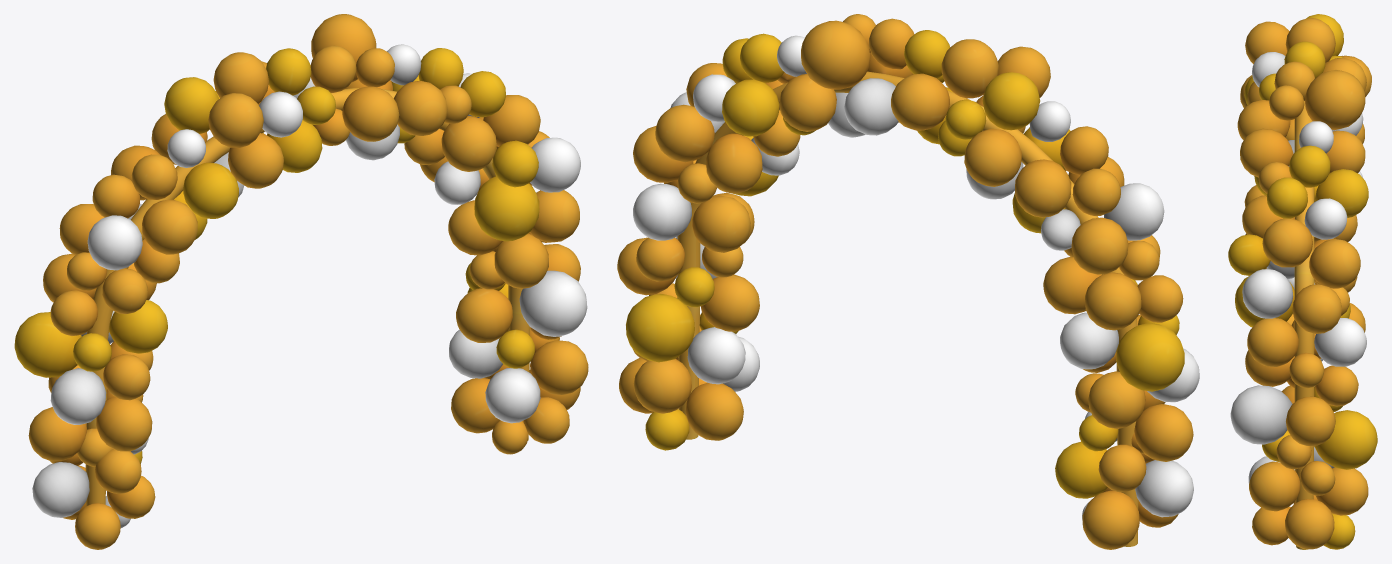
Rendered from PartyBalloons03_GR2_2.FBX.
The picture shows the model from 3 angles, left to right: view 1: azimuth 30°, elevation 25°; view 2: azimuth 150°, elevation 25°; view 3: azimuth 270°, elevation 25°; orthographic projection. The views are drawn at different scales.
Parts seen in each view (by area): view 1: PartyBalloons03_GR2_2; view 2: PartyBalloons03_GR2_2; view 3: PartyBalloons03_GR2_2.
Part boxes in pixels (x1=…): PartyBalloons03_GR2_2: x1=14, y1=14, x2=588, y2=549; PartyBalloons03_GR2_2: x1=617, y1=14, x2=1199, y2=549; PartyBalloons03_GR2_2: x1=1228, y1=14, x2=1377, y2=549.
Size of what is drawn, in the model's own units: 3.89 by 3.04 by 1.02.
